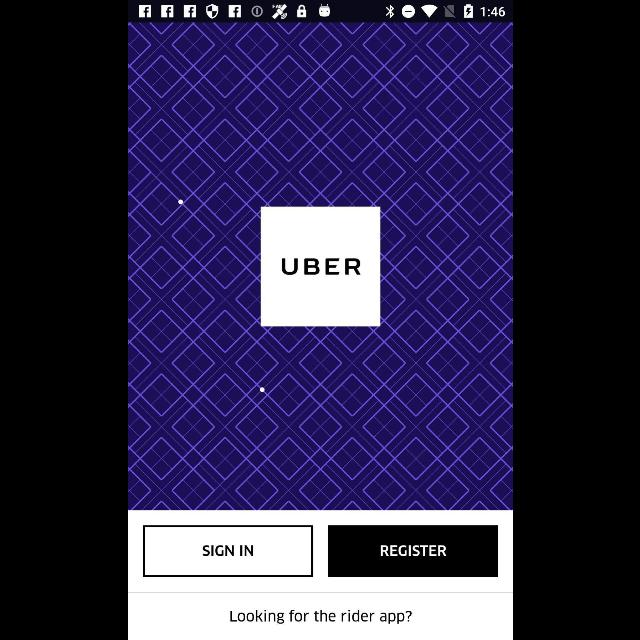image: (128, 23, 512, 510), (260, 207, 380, 327)
textbutton: (128, 592, 512, 640), (327, 525, 497, 577), (142, 525, 312, 577)
uppertaskbar: (128, 1, 512, 23)
